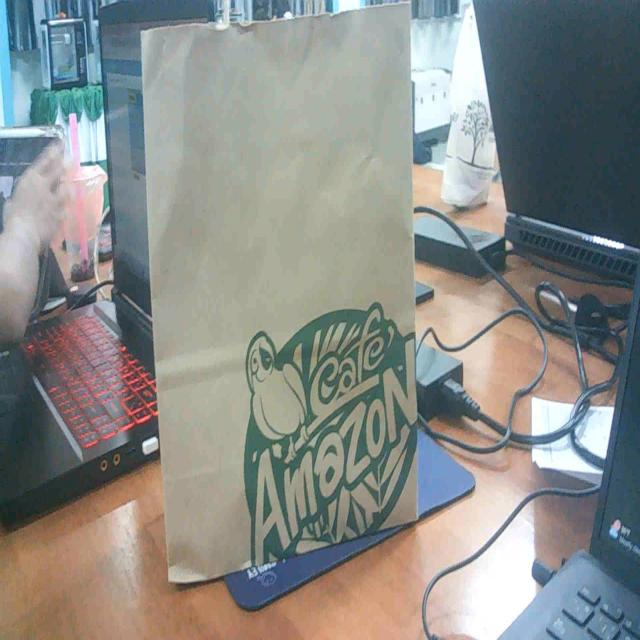bag: (132, 20, 424, 564)
